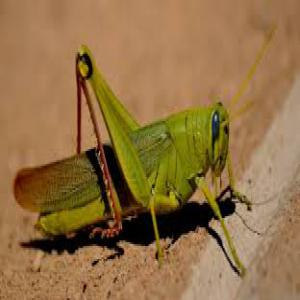locust: (13, 65, 252, 240)
